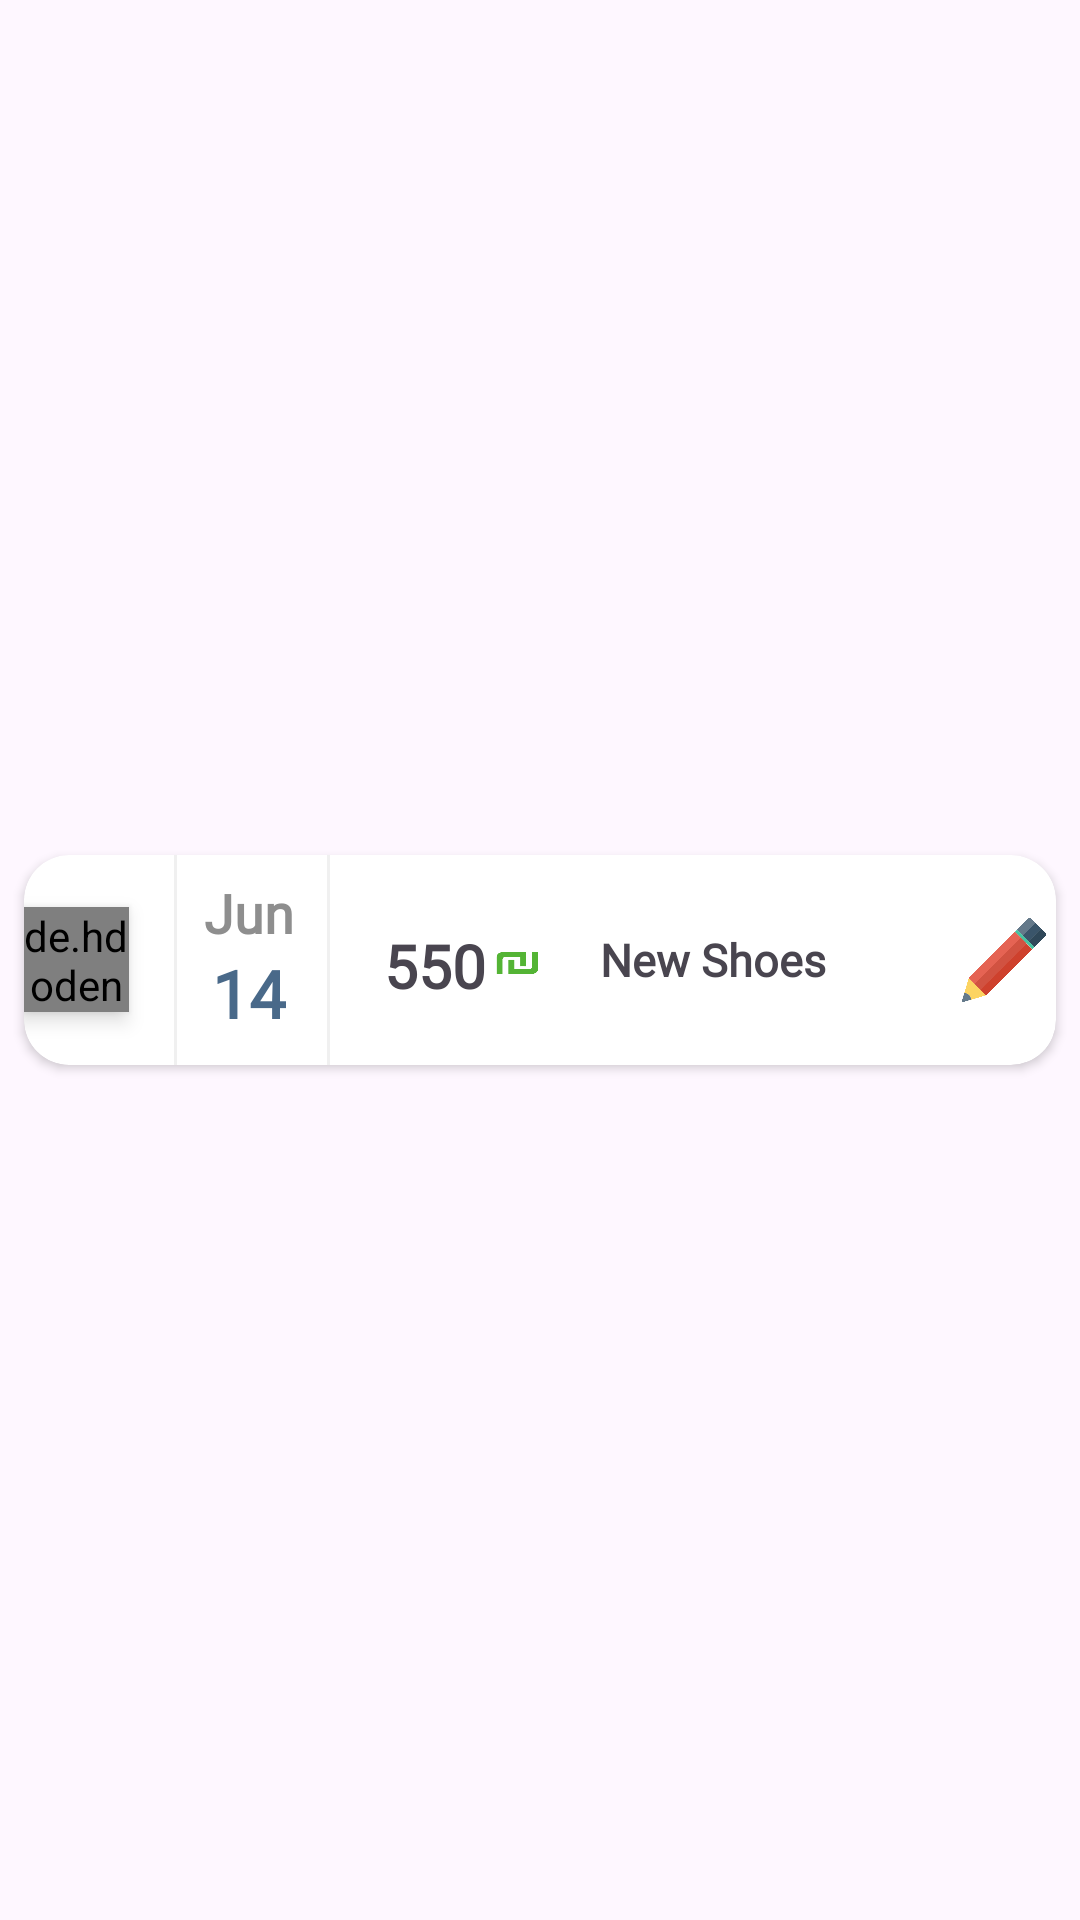

Where to tap for icons on this 1080 × 1920 app screen, as [x,y]:
pencil: [1004,960]
